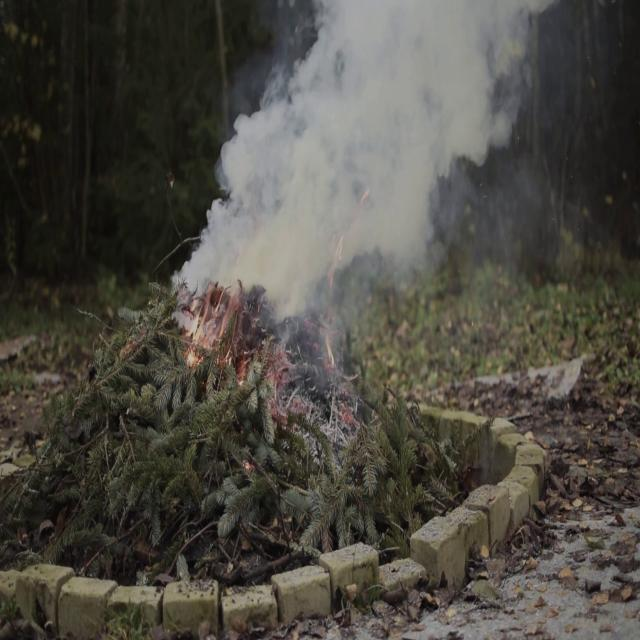Smoke: (177, 1, 595, 317)
